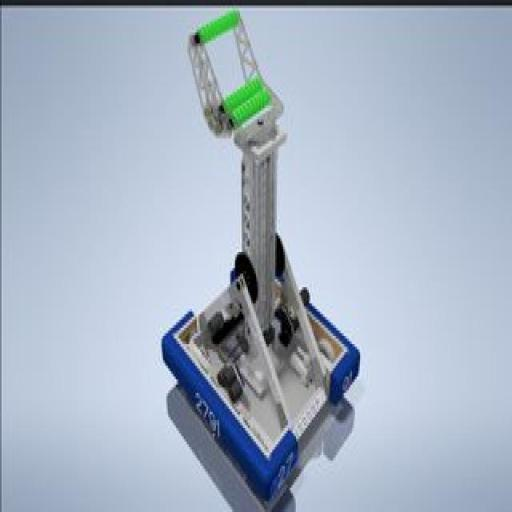robot: (162, 0, 374, 498)
